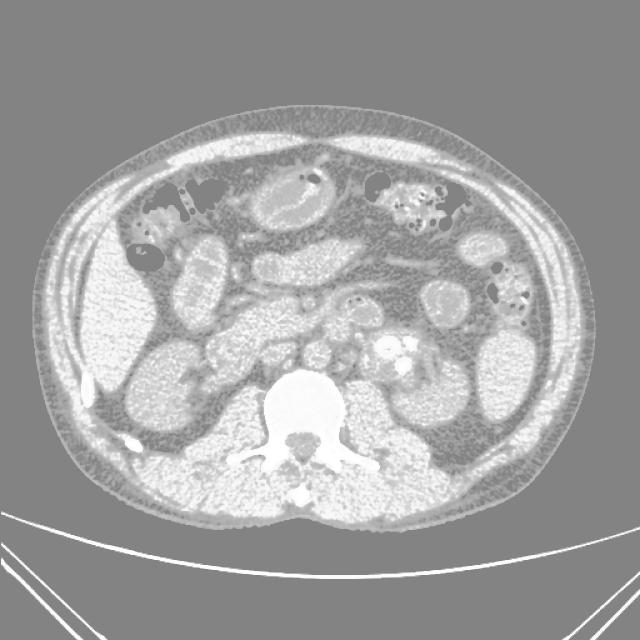STONE: (57, 91, 555, 395)
